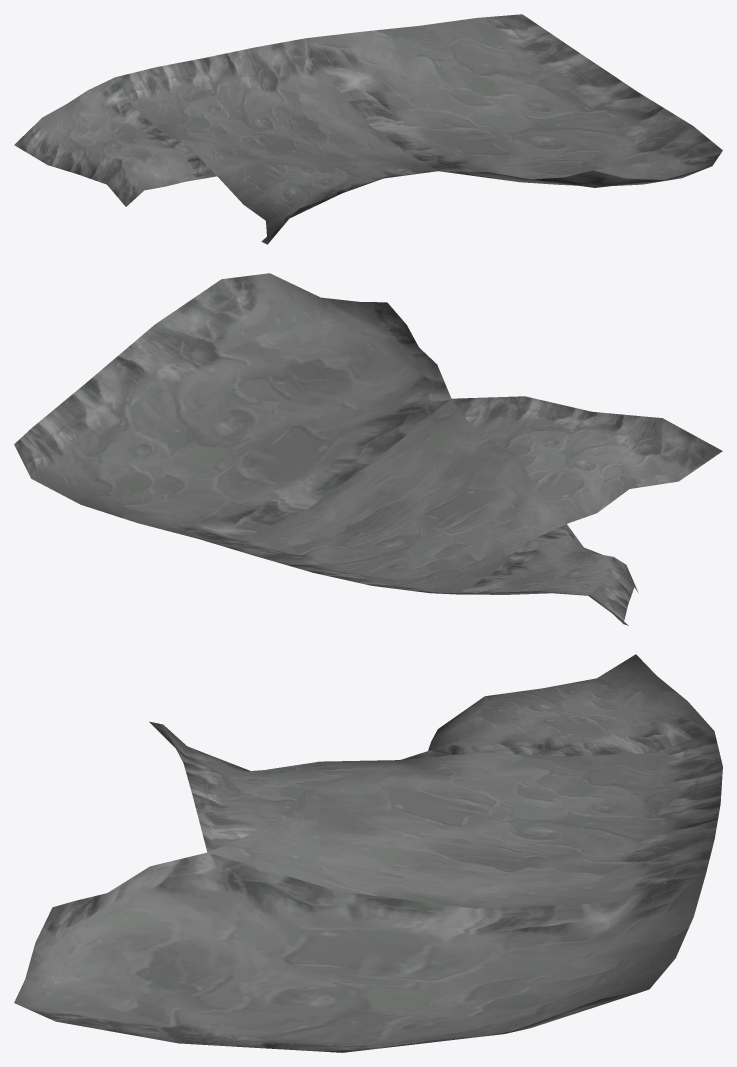
Rendered from SWORDLIGHT20_PS-AREA03_136.fbx.
3 views of the same model, one above another, from view 1: azimuth 30°, elevation 25°; view 2: azimuth 150°, elevation 25°; view 3: azimuth 270°, elevation 25° (orthographic). The views are drawn at different scales.
Visible parts, largest first — view 1: SWORDLIGHT20_PS-AREA03_136; view 2: SWORDLIGHT20_PS-AREA03_136; view 3: SWORDLIGHT20_PS-AREA03_136.
Part boxes in pixels (bbox=[...]): SWORDLIGHT20_PS-AREA03_136: bbox=[14, 14, 722, 244]; SWORDLIGHT20_PS-AREA03_136: bbox=[14, 273, 722, 625]; SWORDLIGHT20_PS-AREA03_136: bbox=[14, 654, 722, 1052].
Size of the model in its own units: 164165 by 15724 by 127827.
3 materials, 3 textured.
